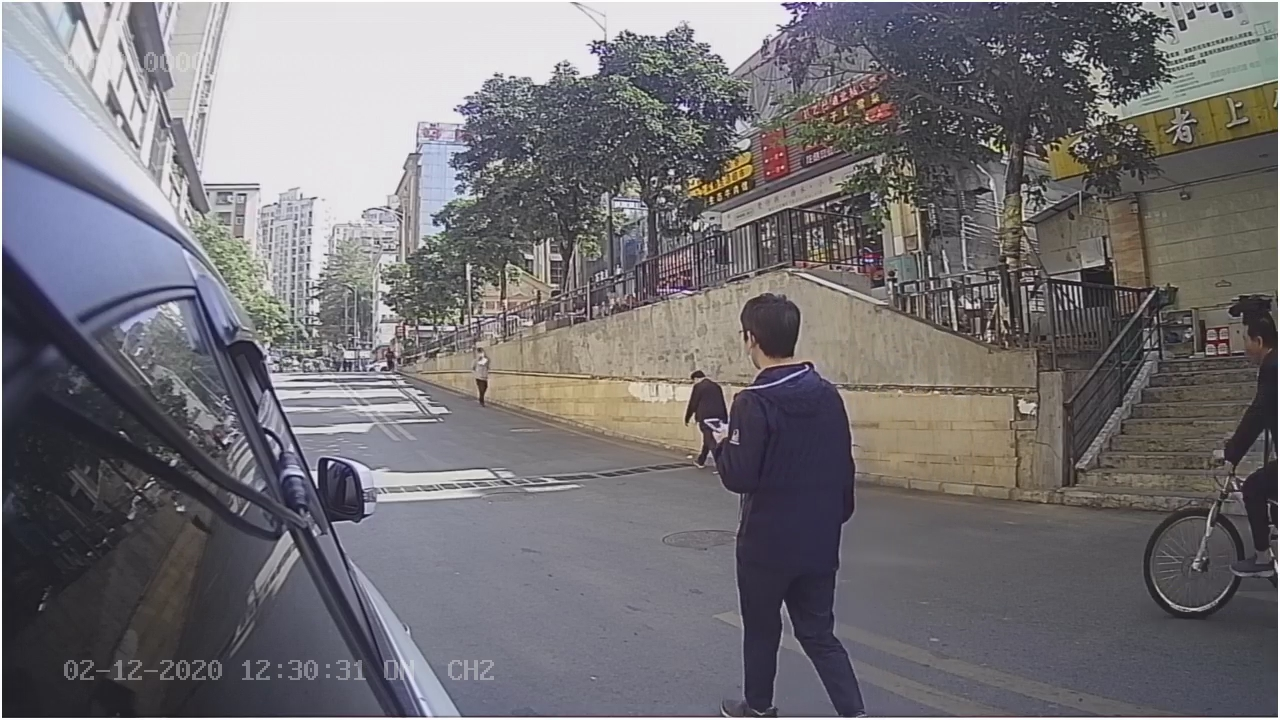person: (710, 283, 862, 493)
